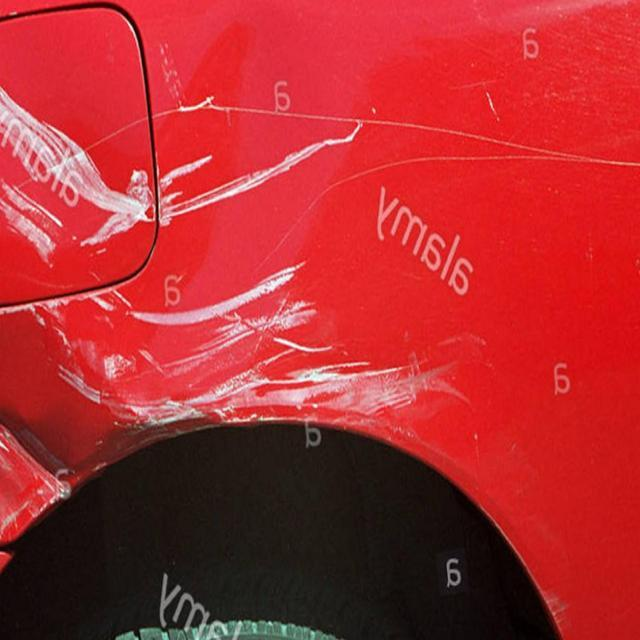scratch: (0, 66, 509, 524)
